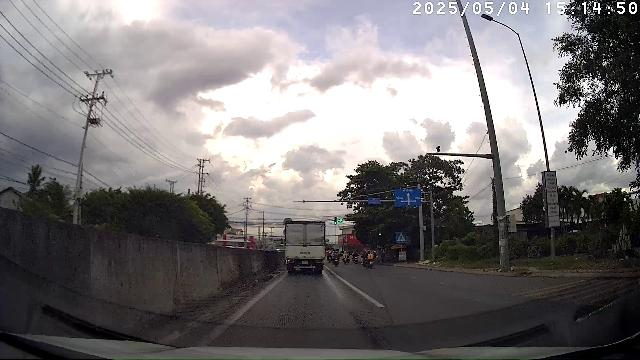423a-duong-nguoi-di-bo-sang-ngang-1: (395, 231, 407, 243)
